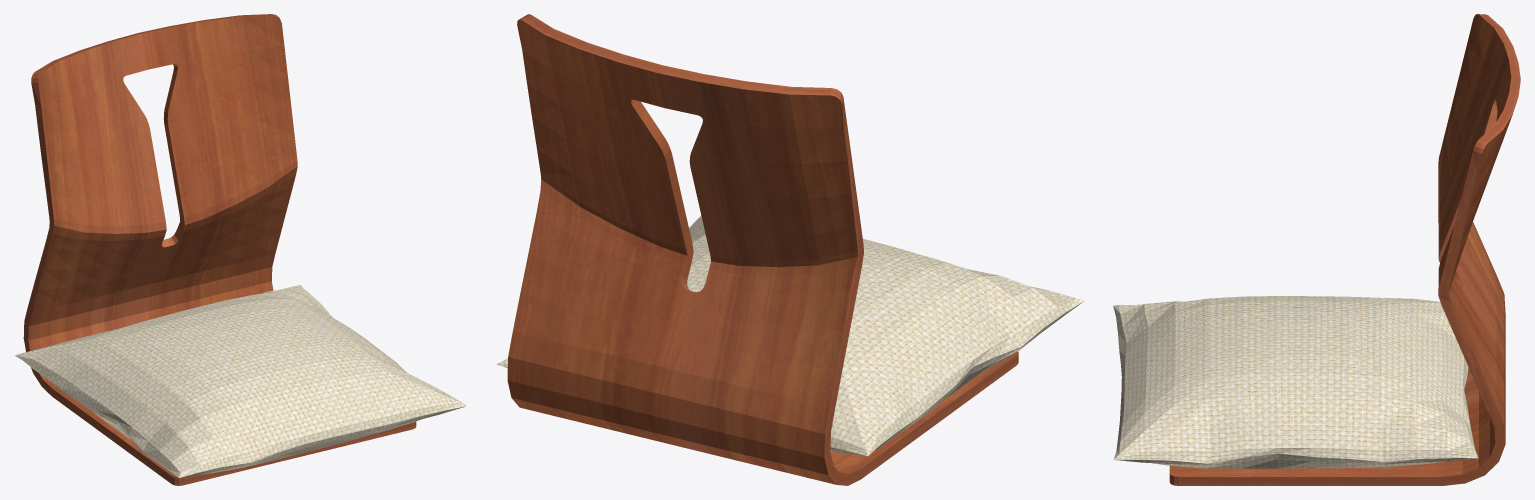
The model's file is ryokanChair.obj.
3 views of the same model, side by side, from view 1: azimuth 30°, elevation 25°; view 2: azimuth 150°, elevation 25°; view 3: azimuth 270°, elevation 25° (orthographic). The views are drawn at different scales.
Visible parts, largest first — view 1: chair_Cube, cushion_Cube.002; view 2: chair_Cube, cushion_Cube.002; view 3: cushion_Cube.002, chair_Cube.
Part boxes in pixels (x1,y1,x2,y2): chair_Cube: (23, 14, 416, 485); cushion_Cube.002: (15, 285, 466, 477); chair_Cube: (507, 14, 1018, 485); cushion_Cube.002: (496, 215, 1084, 456); cushion_Cube.002: (1113, 296, 1478, 468); chair_Cube: (1169, 14, 1520, 485).
Size of the model in its own units: 53.29 by 54.82 by 58.97.
